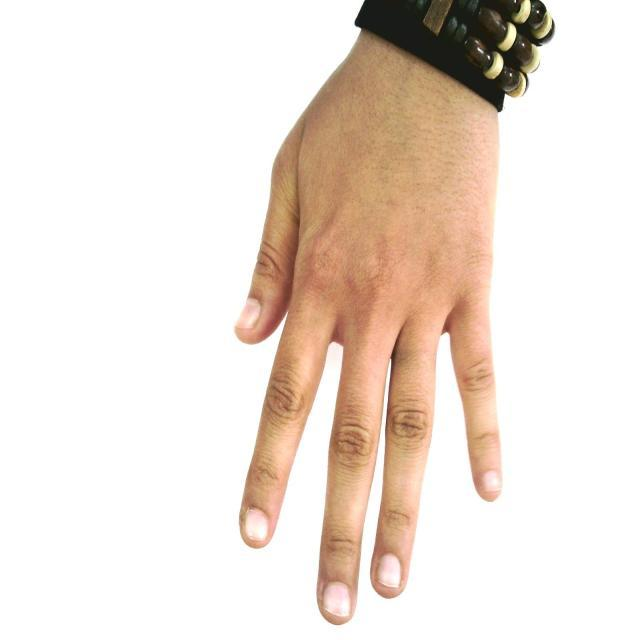Fingernail: (324, 583, 350, 616), (378, 555, 401, 588), (245, 510, 268, 541), (237, 299, 260, 327), (482, 472, 500, 490)
